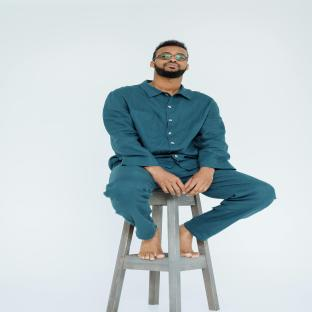Human: (103, 40, 275, 260)
